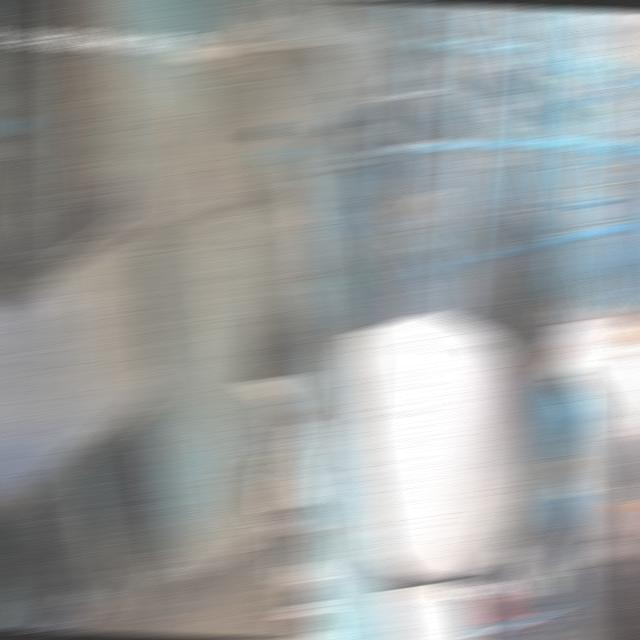cement_mixer_truck: (240, 313, 640, 639)
swing_chute: (246, 124, 351, 355)
